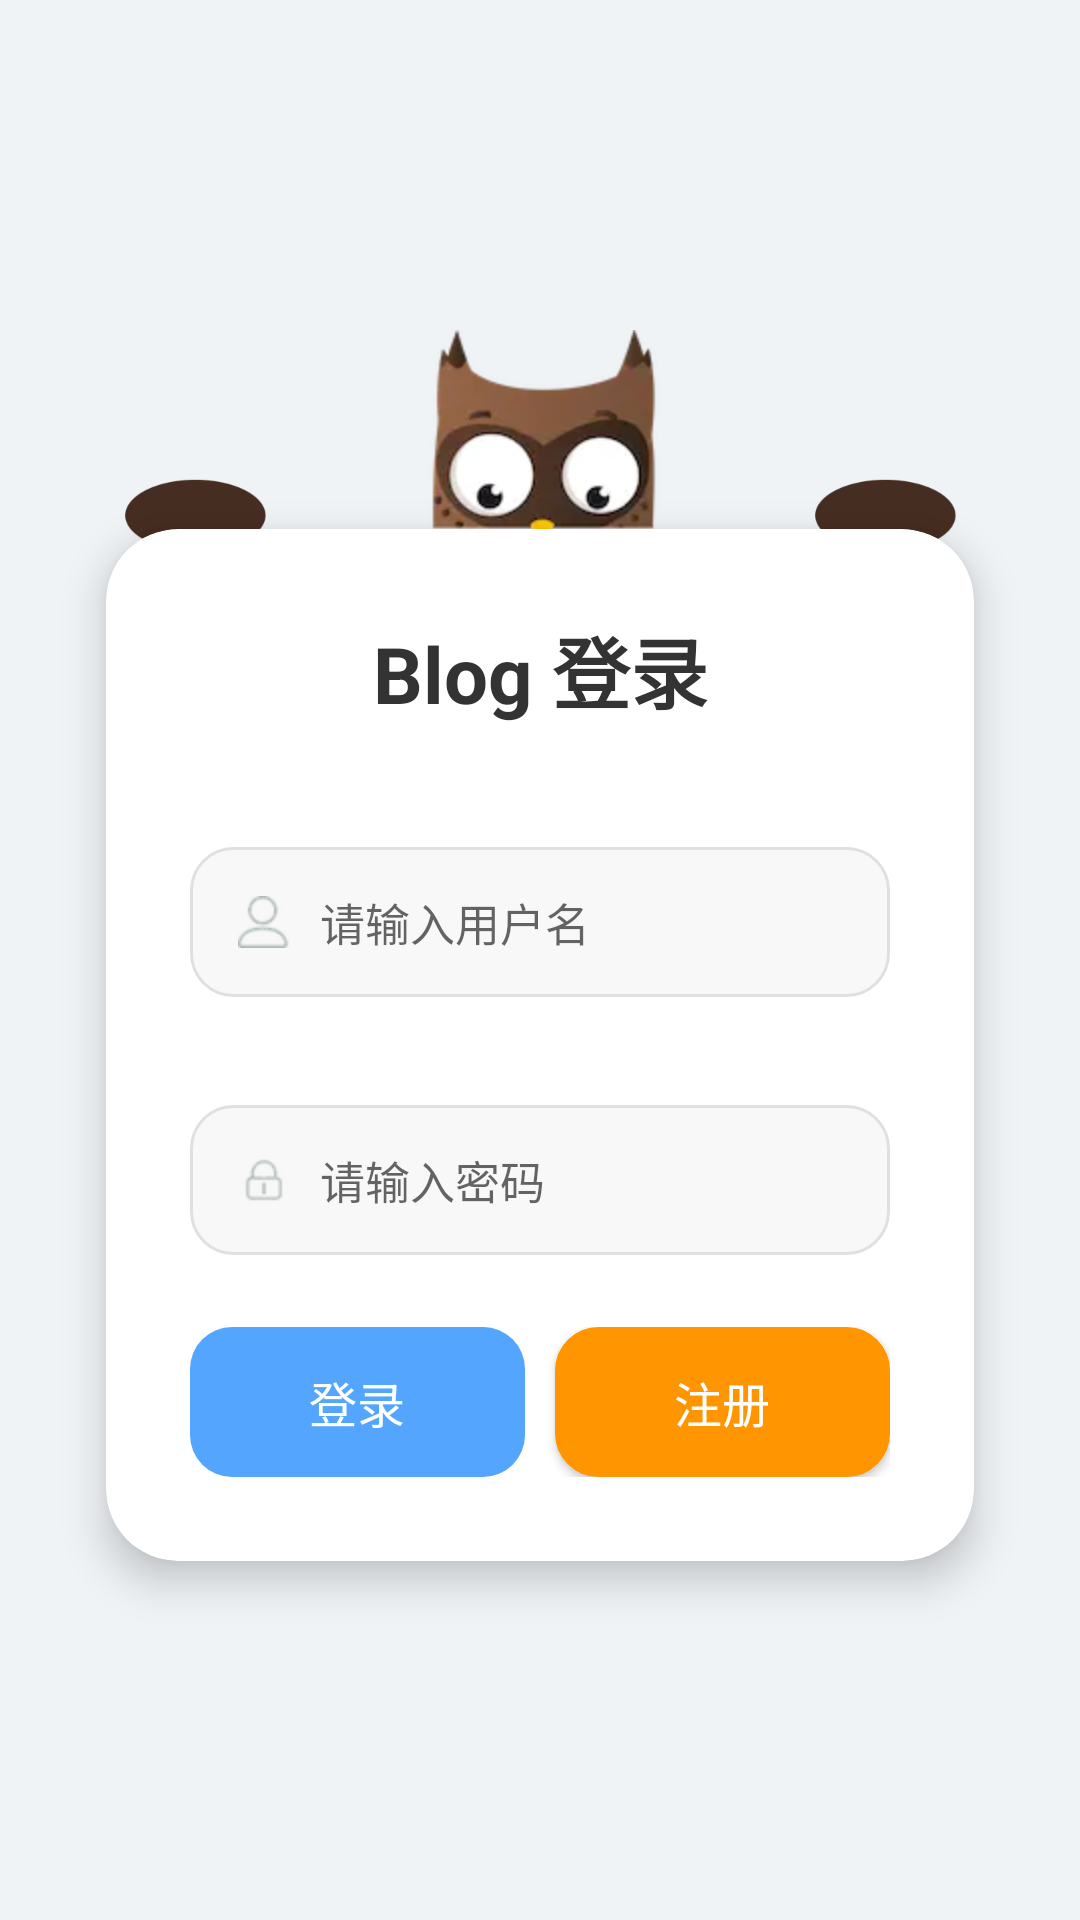

Named icons in this screenshot (1080 x 1920) and their bounding boxes, (x1,y1,x2,y2):
owl head: (432,330,656,529)
